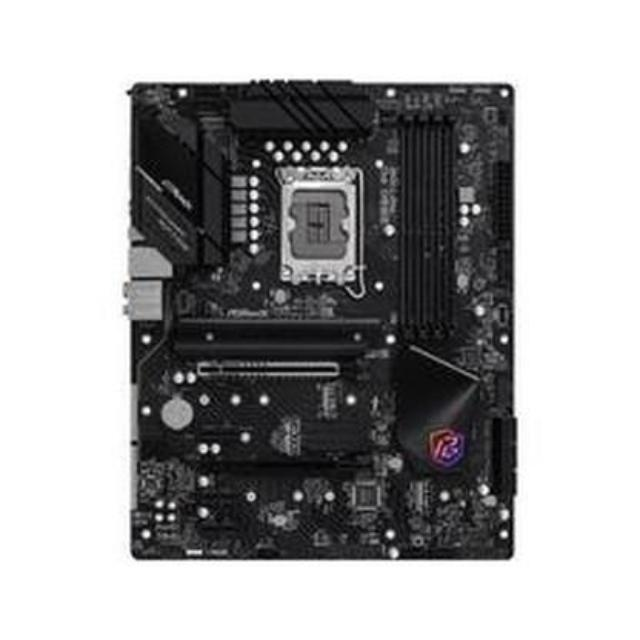Mainboard: (110, 66, 530, 578)
